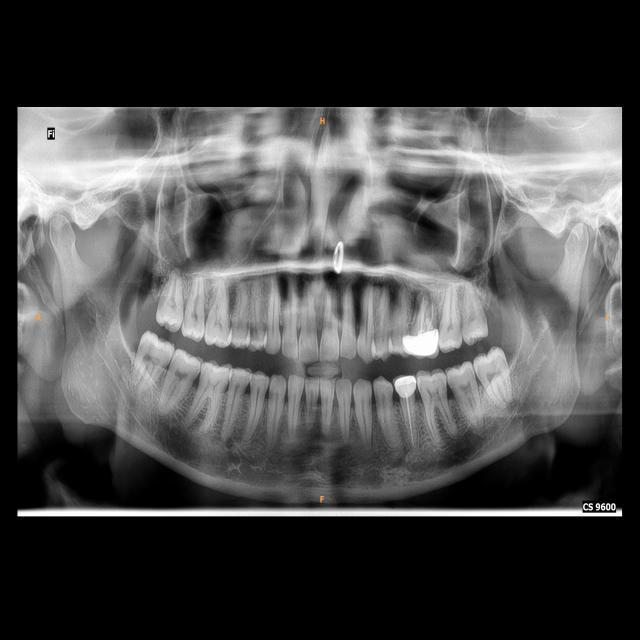dentin-curugu: (252, 323, 262, 340)
kanal-tedavisi: (403, 394, 418, 444), (415, 296, 436, 328)
kaplama: (403, 329, 440, 357), (392, 372, 419, 397)
